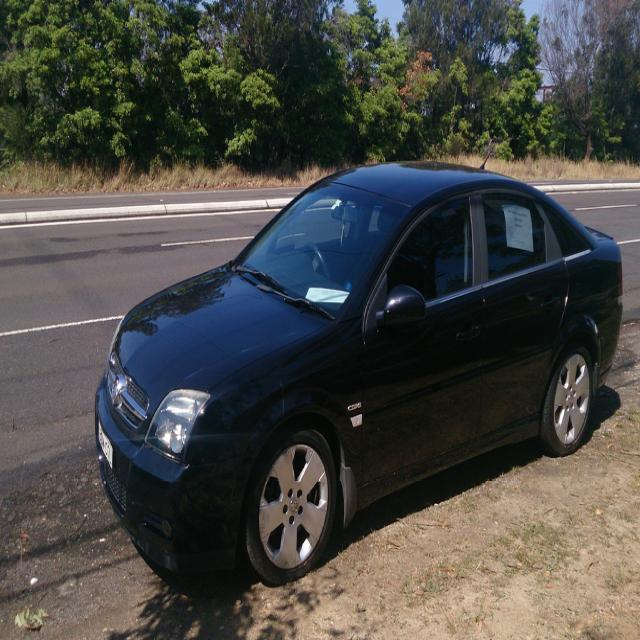car: (93, 148, 622, 585)
